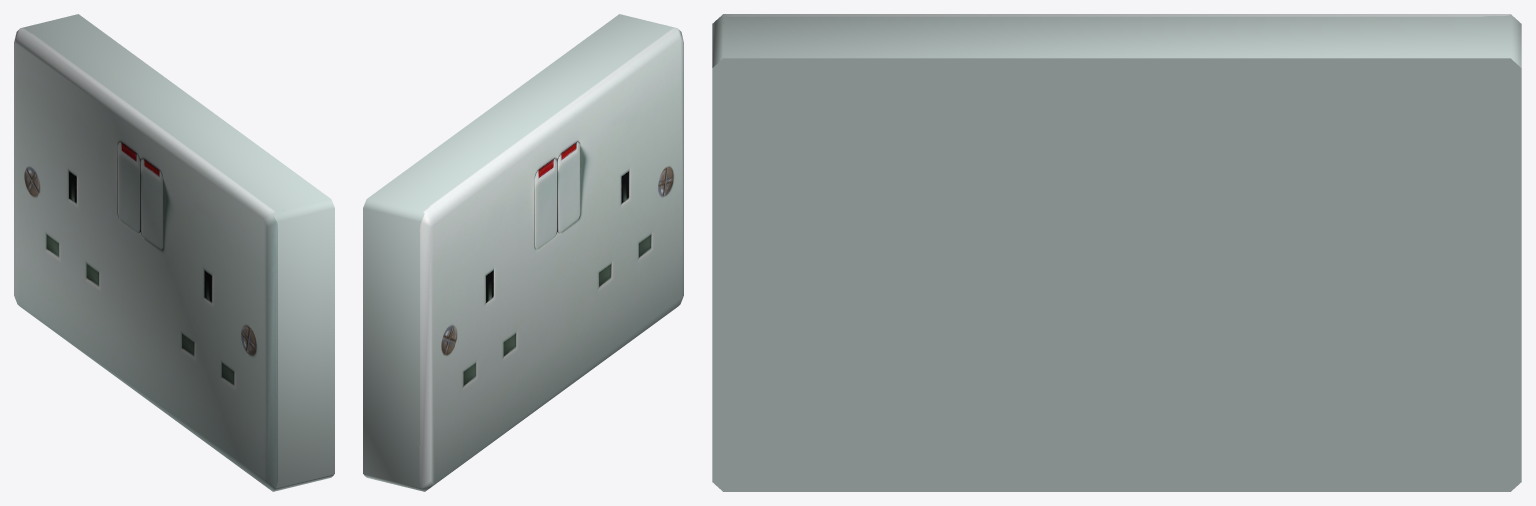
The model's file is PlugSocket.FBX.
3 renders of one model, left to right at view 1: azimuth 30°, elevation 25°; view 2: azimuth 150°, elevation 25°; view 3: azimuth 270°, elevation 25°, orthographic. The views are drawn at different scales.
Parts seen in each view (by area): view 1: Plug_Socket01; view 2: Plug_Socket01; view 3: Plug_Socket01.
Boxes of the visible parts, <box> form: Plug_Socket01: <box>14,14,334,491</box>; Plug_Socket01: <box>363,14,683,491</box>; Plug_Socket01: <box>712,14,1521,491</box>.
Size of the model in its own units: 0.8346 by 3.44 by 5.83.
1 material, 1 textured.
